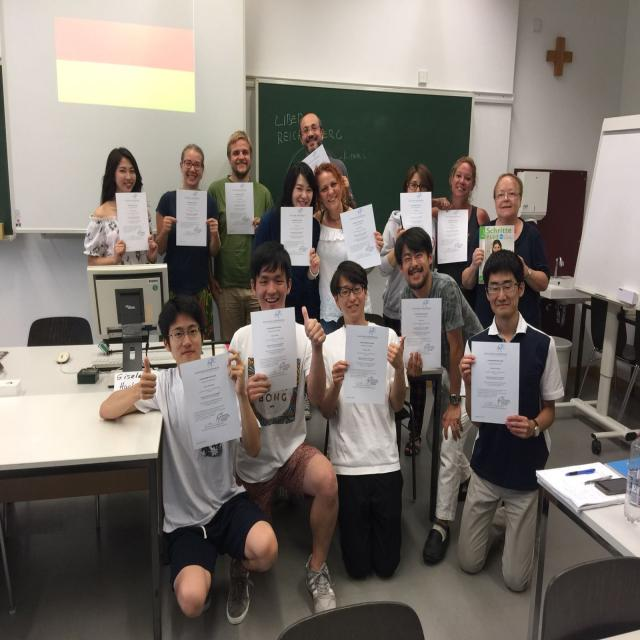body: (97, 291, 279, 628), (229, 241, 339, 617), (457, 248, 565, 591), (392, 224, 490, 567), (320, 258, 409, 584), (377, 162, 438, 458), (461, 170, 551, 332), (207, 130, 276, 341), (311, 160, 384, 338), (248, 159, 322, 324), (154, 143, 222, 303), (83, 145, 160, 267), (432, 154, 491, 300), (296, 110, 358, 215)
